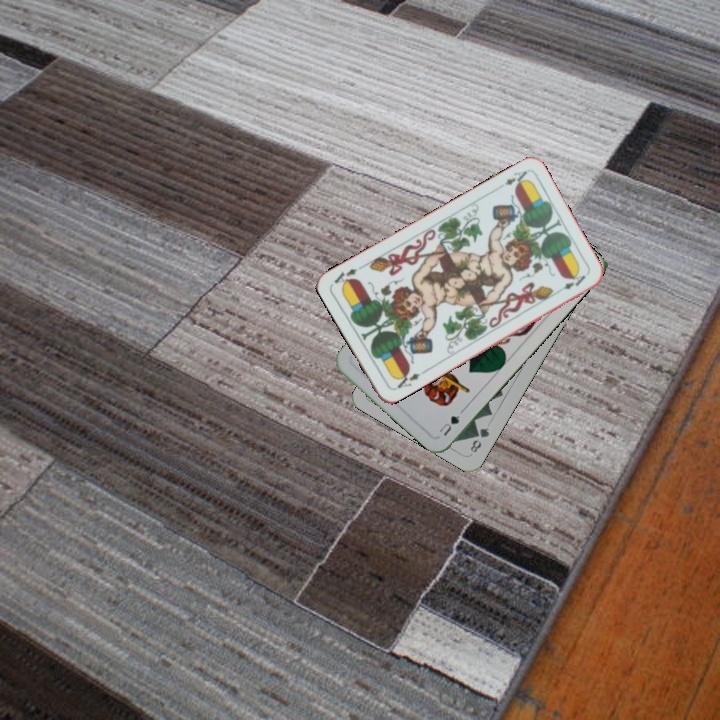EA: (390, 367, 423, 392), (501, 167, 530, 190)
G8: (466, 423, 492, 455)
GU: (435, 406, 466, 439)
